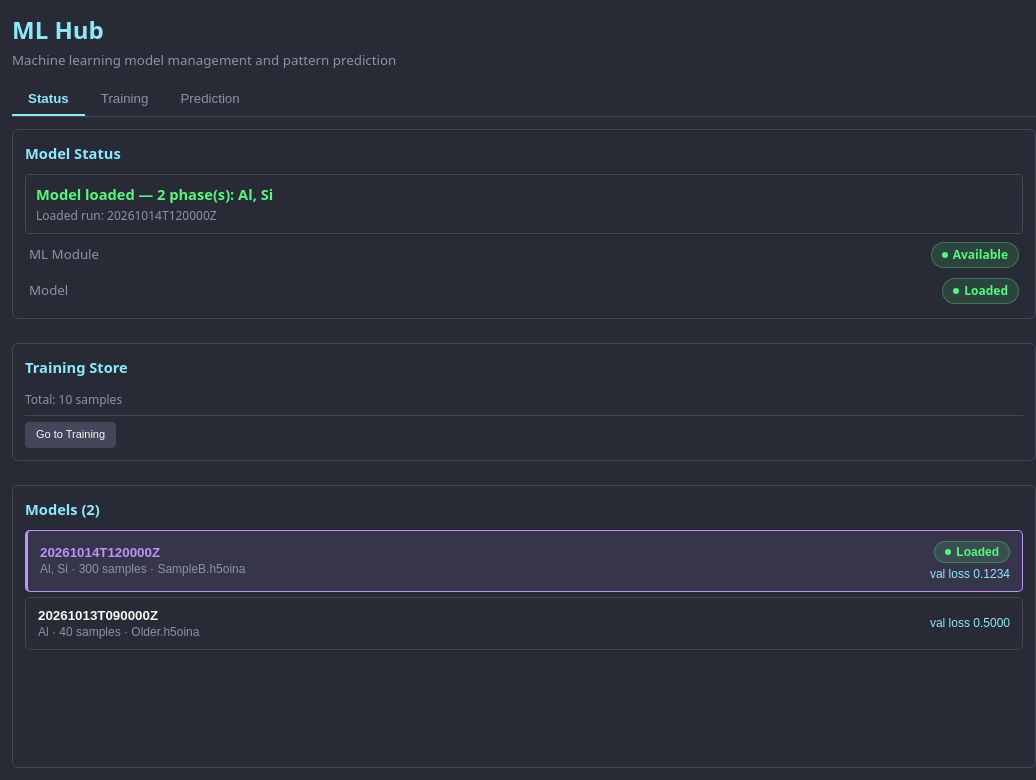
ML Hub model list › says so when the backend refuses to load the run
Click the text "20261013T090000Z" at x=98, y=616, box [38,608,158,623]
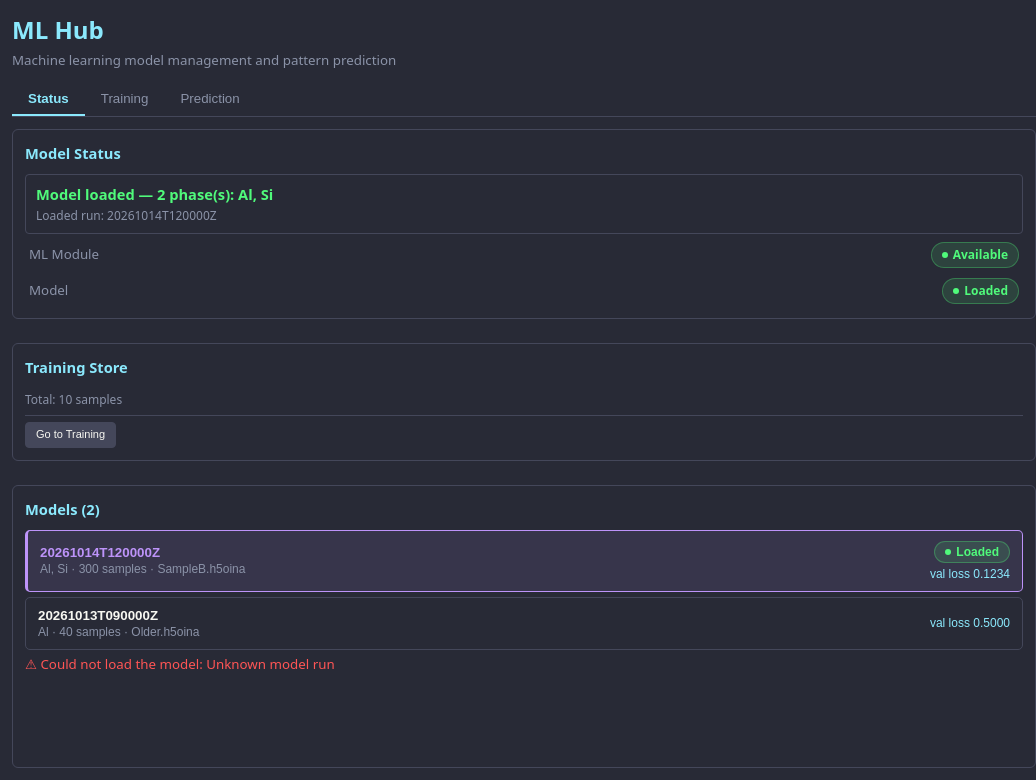
Check: the text "⚠ Could not load the model: Unknown model run" is shown, box [25,655,335,673]
